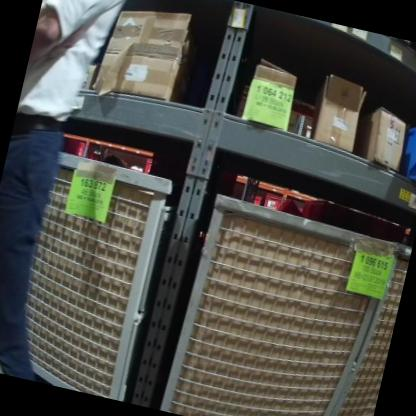small_load_carrier: (299, 198, 347, 234), (260, 191, 287, 216), (64, 139, 91, 160), (242, 191, 262, 211), (143, 157, 156, 175)
stillage: (155, 186, 400, 416), (0, 131, 189, 404), (316, 228, 414, 416)
